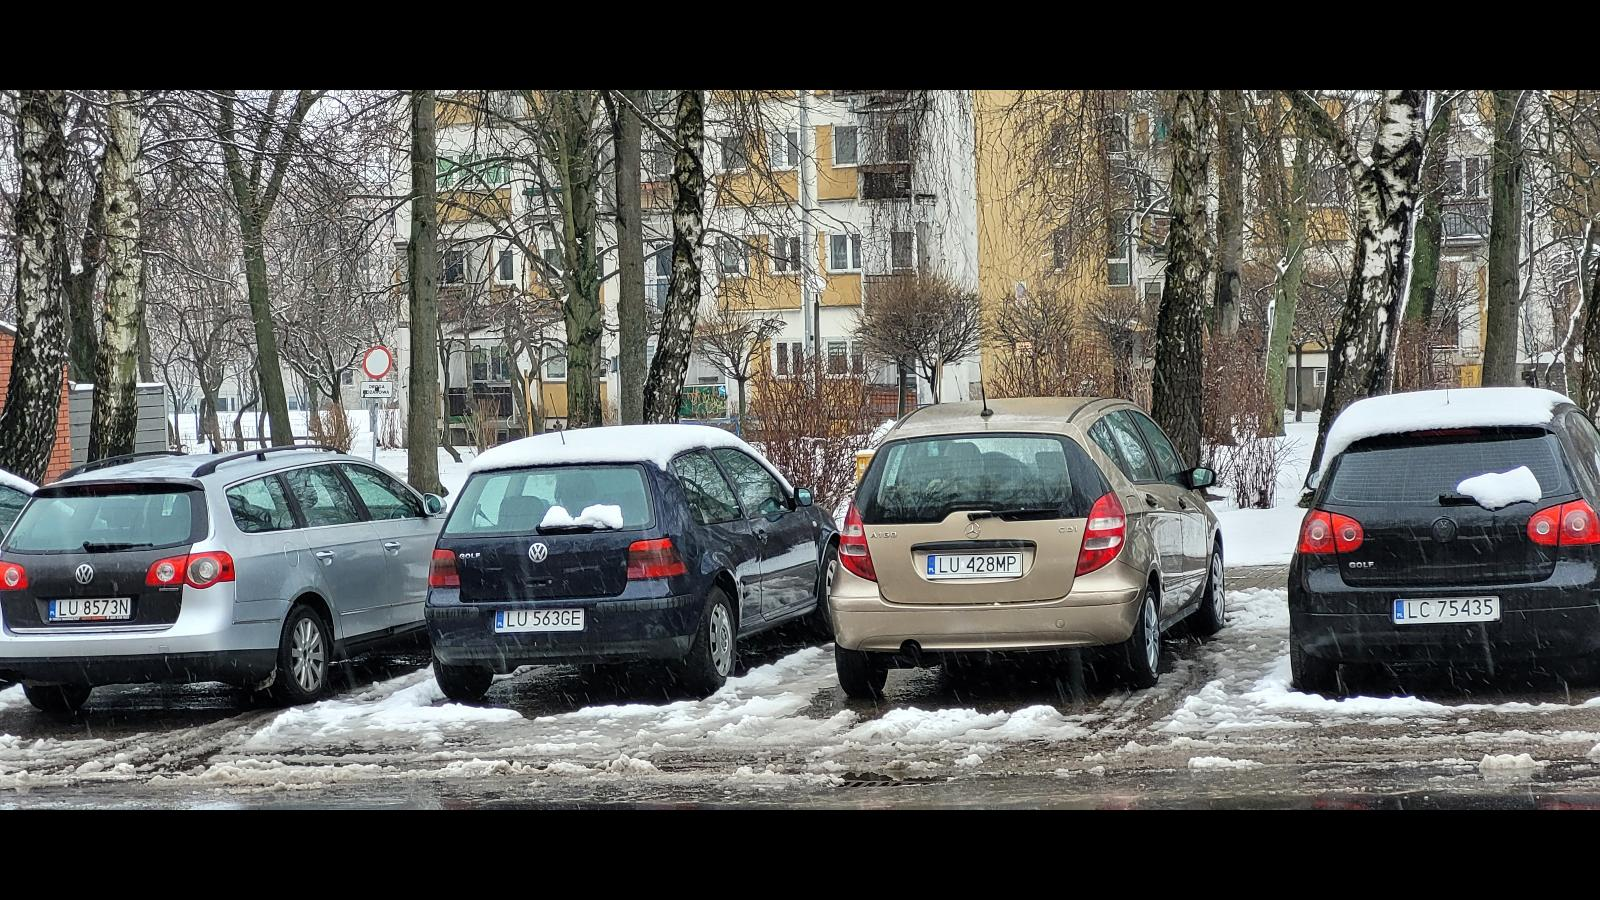plates: (1394, 596, 1500, 624), (926, 552, 1022, 580), (496, 608, 585, 633), (49, 598, 132, 622)
